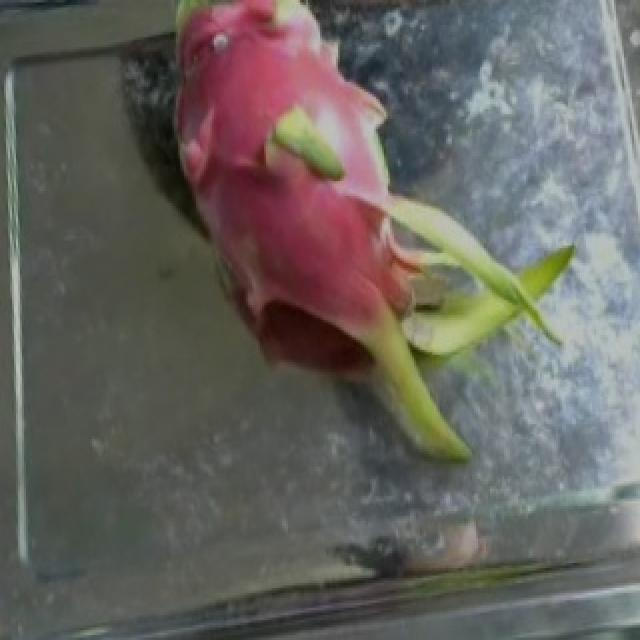fruit: (144, 5, 596, 471)
